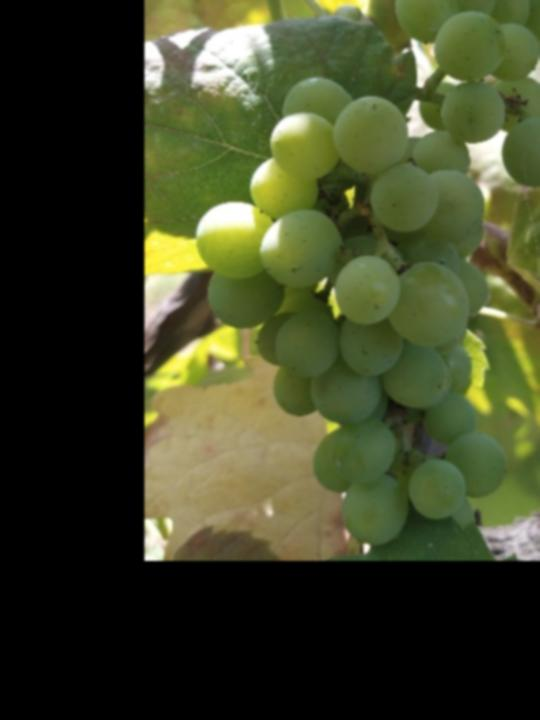grape: (194, 75, 507, 547), (394, 0, 540, 193)
